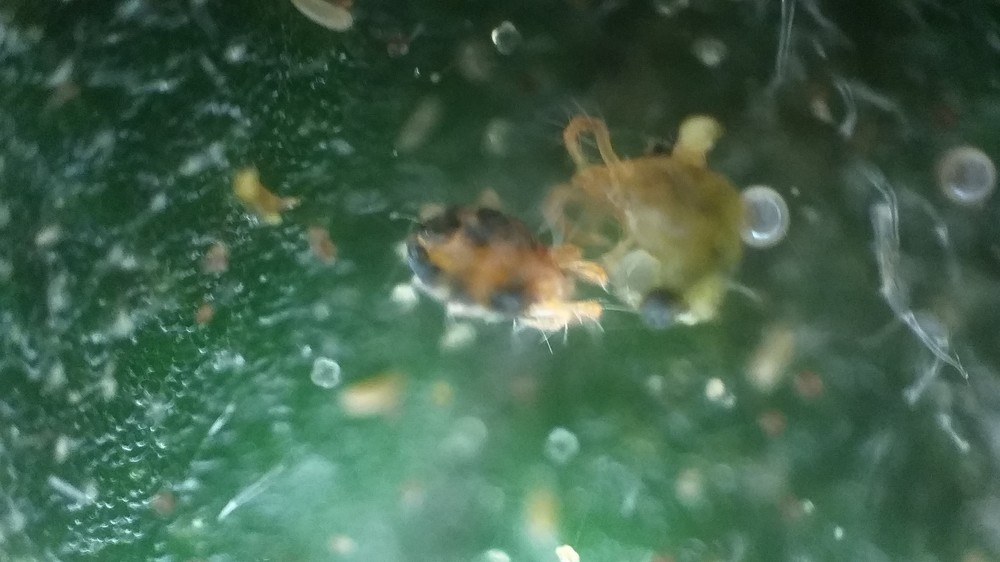Aracnido Rojo: (554, 90, 774, 335), (360, 179, 606, 364)
